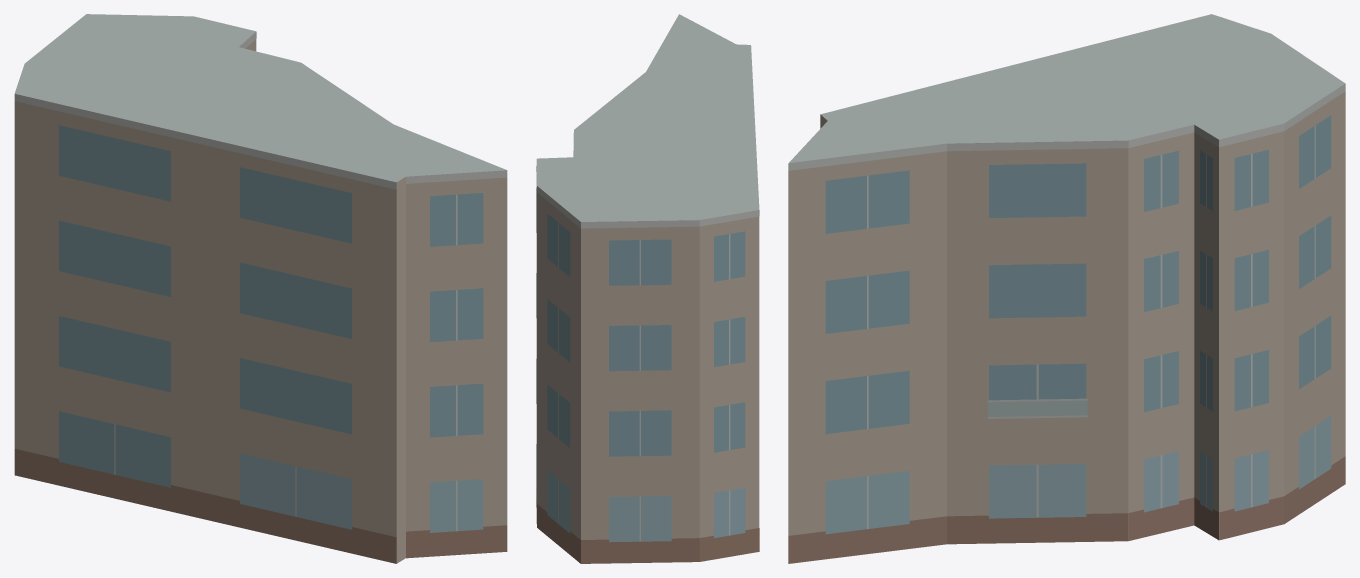
Rendered from survey-upis-33001857.glb.
3 renders of one model, left to right at view 1: azimuth 30°, elevation 25°; view 2: azimuth 150°, elevation 25°; view 3: azimuth 270°, elevation 25°, orthographic. The views are drawn at different scales.
Parts seen in each view (by area): view 1: survey-upis-33001857.tmp; view 2: survey-upis-33001857.tmp; view 3: survey-upis-33001857.tmp.
Part boxes in pixels (x1,y1,x2,y2): survey-upis-33001857.tmp: [14, 14, 507, 563]; survey-upis-33001857.tmp: [536, 14, 759, 563]; survey-upis-33001857.tmp: [788, 14, 1345, 563].
Size of the model in its own units: 10.24 by 12.8 by 16.15.
